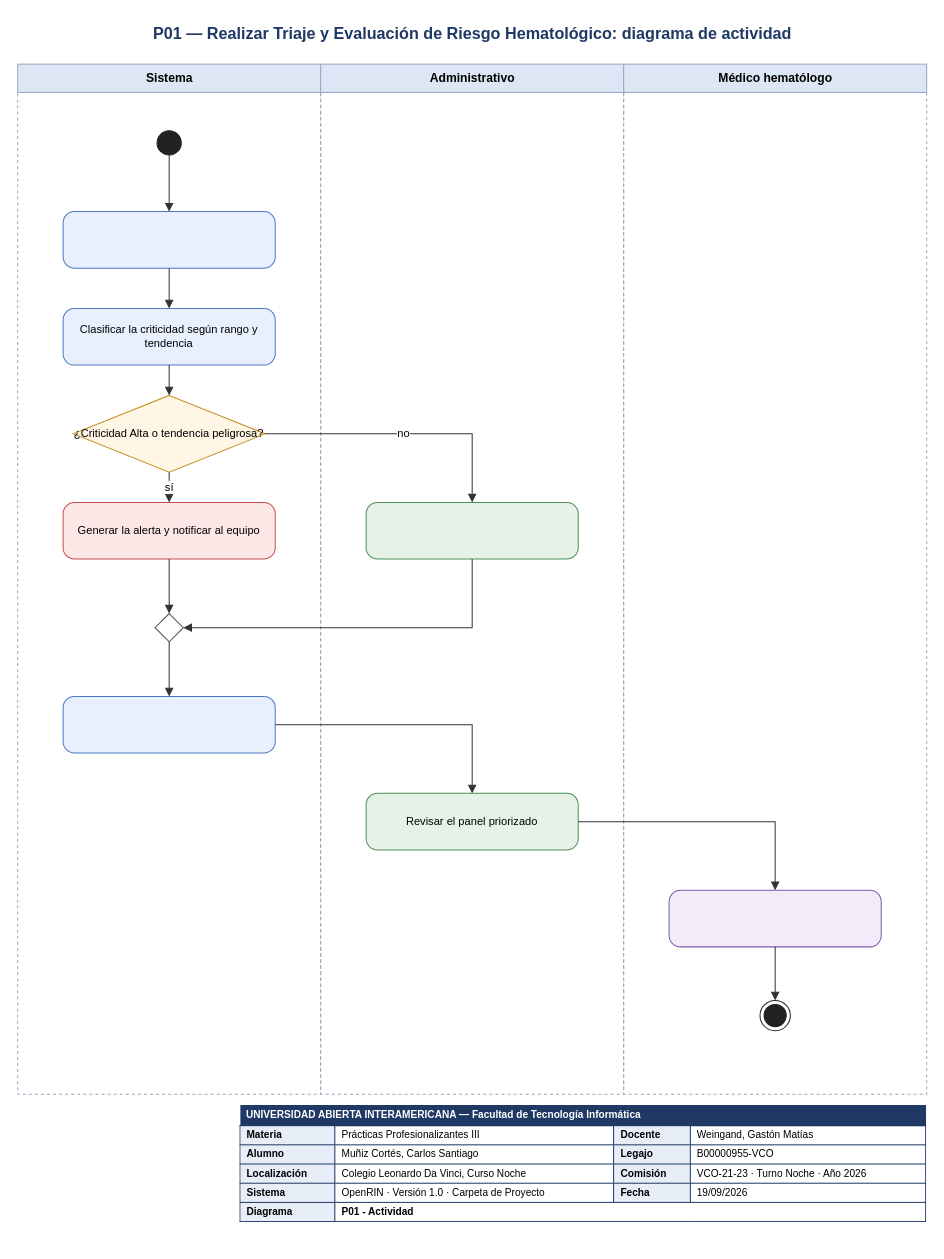
The diagram is 944 pixels wide and 1259 high, and some of its shapes have lost their labels. The shapes that lost their labels are listed below. From the top down, each one's centre as x and y in pixels, then its label:
At pixel 168 239: "Recibir la medición de RIN (reportada o recibida)".
At pixel 471 530: "Registrar el control como estable".
At pixel 168 724: "Priorizar y publicar el panel de triaje".
At pixel 774 918: "Atender primero los casos críticos".
